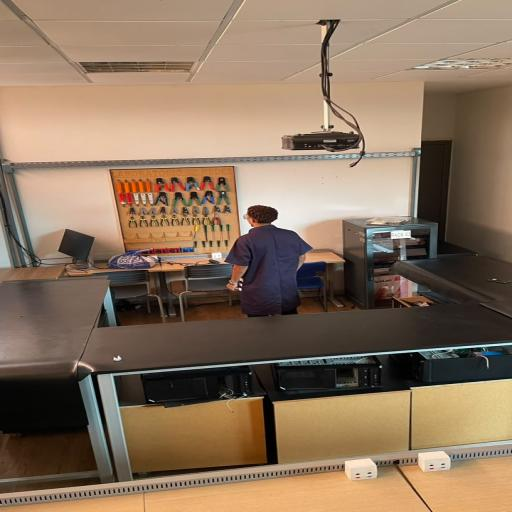OCULOS: (242, 213, 252, 220)
